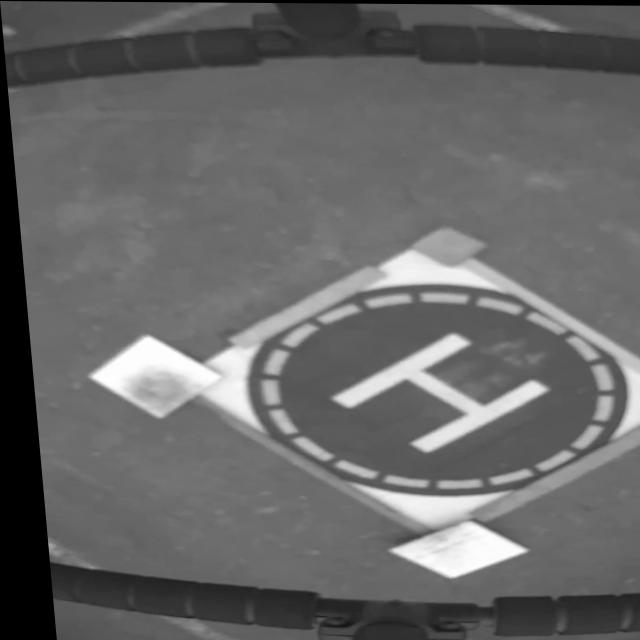Helipad: (323, 331, 546, 452)
